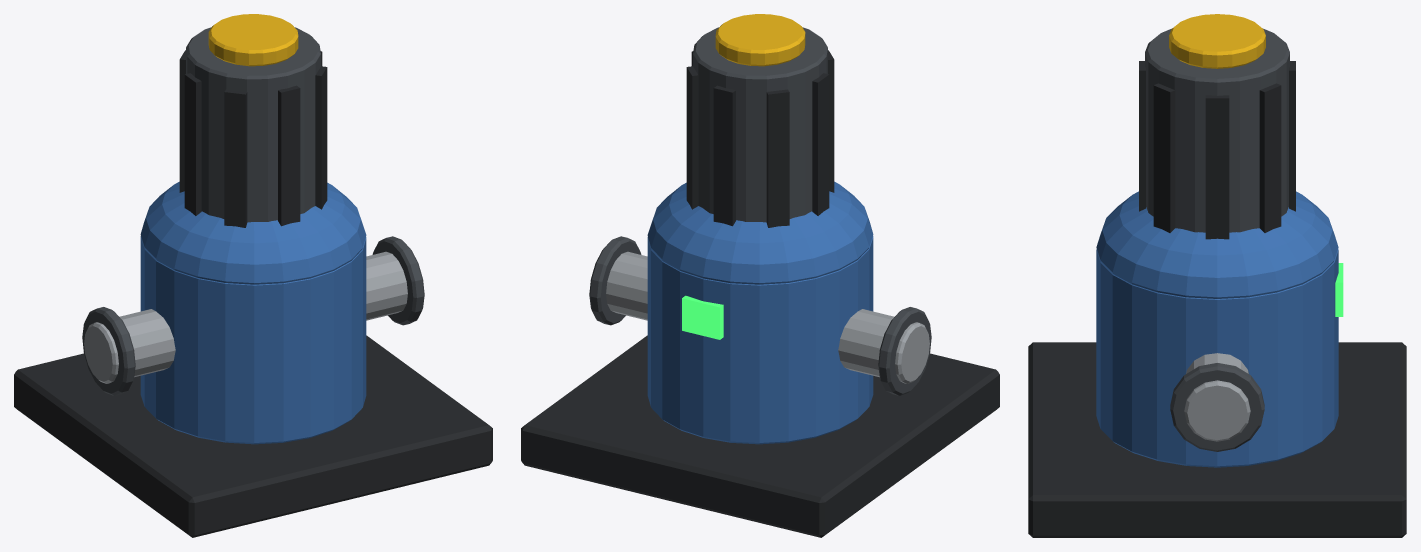
Rendered from coolant_pump.glb.
3 renders of one model, left to right at view 1: azimuth 30°, elevation 25°; view 2: azimuth 150°, elevation 25°; view 3: azimuth 270°, elevation 25°, orthographic. The views are drawn at different scales.
Parts seen in each view (by area): view 1: coolant_pump; view 2: coolant_pump; view 3: coolant_pump.
Part boxes in pixels (x1,y1,x2,y2): coolant_pump: (14, 14, 492, 537); coolant_pump: (521, 14, 999, 537); coolant_pump: (1028, 14, 1406, 537).
Size of the model in its own units: 0.8 by 1 by 0.8.
